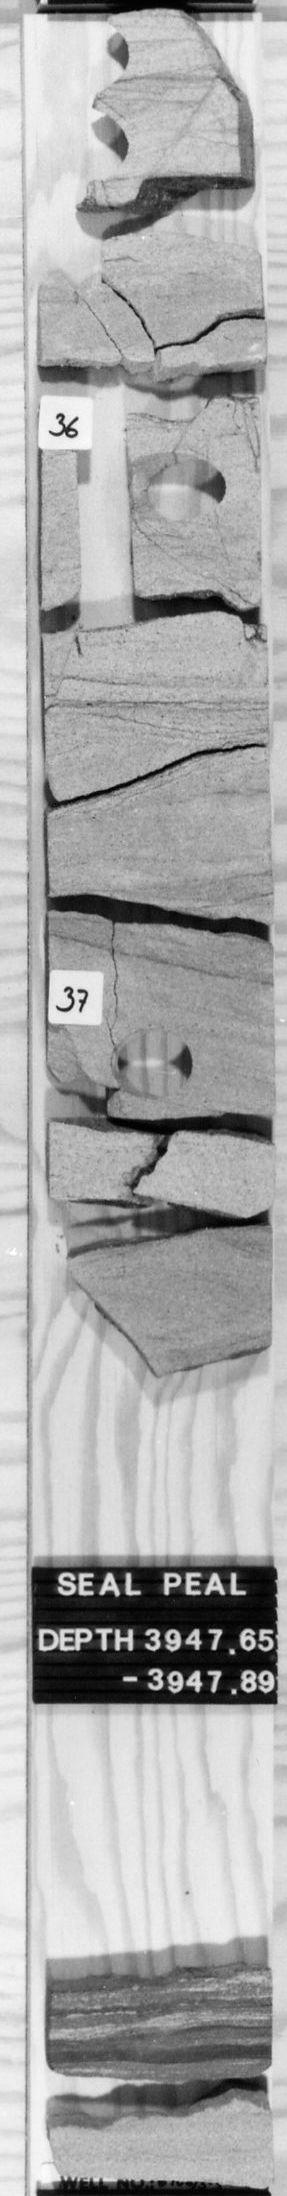hplug: (132, 444, 235, 534), (106, 1022, 207, 1098)
scal: (87, 17, 141, 108), (88, 105, 140, 190)
vplug: (64, 423, 134, 658)
